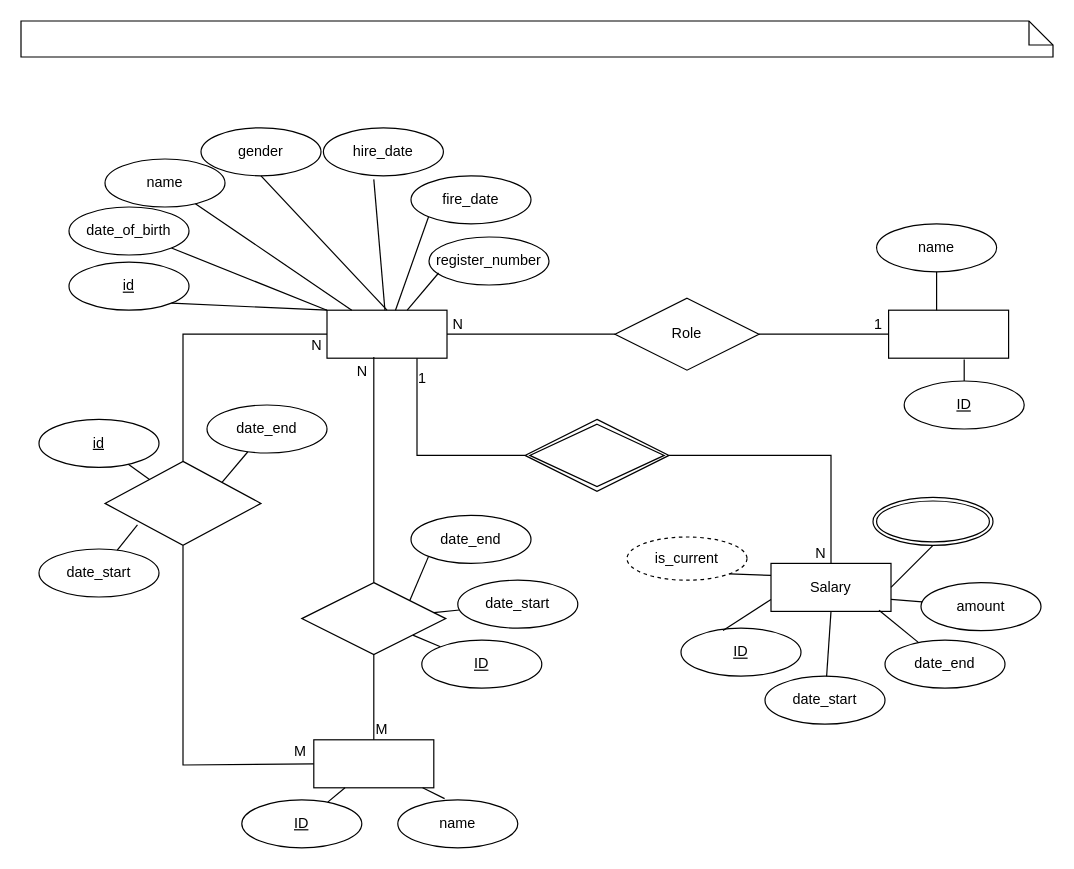
Some shapes in this 1074 by 869 pixel diagram are drawn without their labels. Here are the shapes that lost their labels. From the top down, the box of each, then its label:
(20, 20, 1053, 57): CA1 => Chen notation
(326, 309, 447, 358): Employee
(887, 309, 1009, 358): Job_Title
(524, 418, 669, 491): Earn
(104, 460, 261, 545): Department Manager
(872, 496, 993, 545): Reason
(301, 581, 446, 655): Belongs
(313, 739, 434, 788): Department
